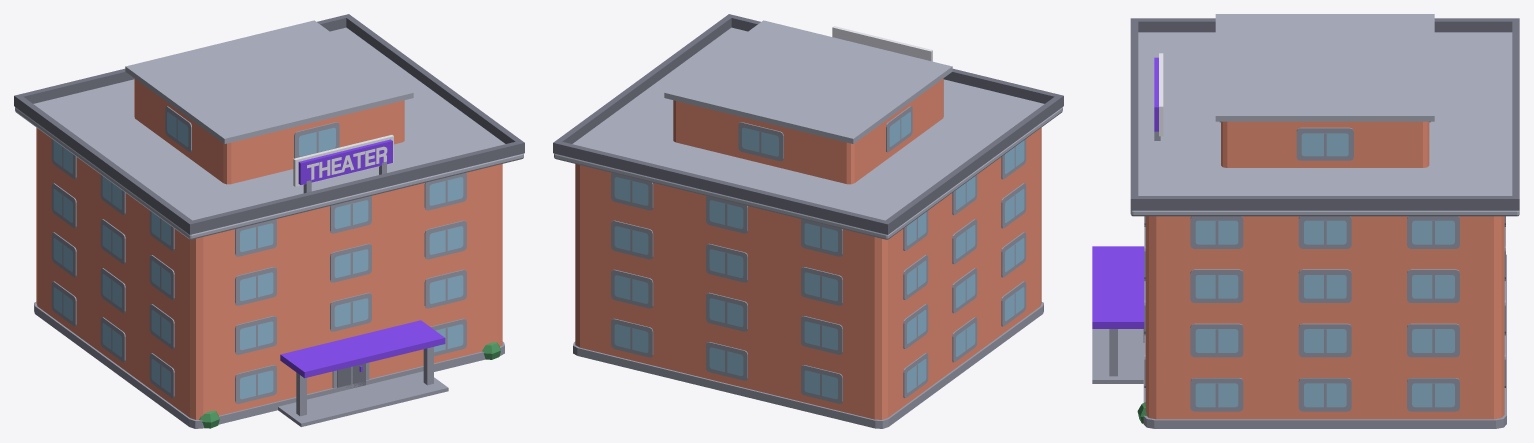
File: theater-2x2-4f.glb
3 renders of one model, left to right at view 1: azimuth 30°, elevation 25°; view 2: azimuth 150°, elevation 25°; view 3: azimuth 270°, elevation 25°, orthographic. The views are drawn at different scales.
Parts seen in each view (by area): view 1: theater-2x2-4f; view 2: theater-2x2-4f; view 3: theater-2x2-4f.
Boxes of the visible parts, box(x1,y1,x2,y2) form: theater-2x2-4f: box(14, 14, 524, 428); theater-2x2-4f: box(553, 14, 1063, 428); theater-2x2-4f: box(1092, 14, 1519, 428).
Size of the model in its own units: 2 by 1.44 by 2.
1 material, 1 textured.
